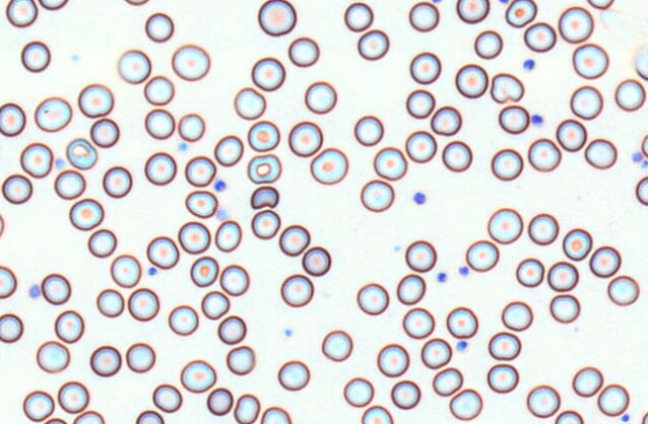PLT: (529, 112, 544, 127), (214, 178, 228, 194), (28, 283, 41, 299), (414, 192, 428, 206), (522, 58, 535, 72), (630, 151, 643, 163), (436, 271, 448, 284), (55, 159, 67, 170), (146, 265, 157, 277), (456, 340, 468, 351), (178, 142, 189, 153), (459, 266, 470, 277), (640, 159, 648, 169)
RBC: (309, 147, 348, 185), (171, 43, 210, 81), (257, 0, 296, 36), (34, 96, 72, 132), (487, 207, 523, 244), (572, 43, 609, 79), (558, 6, 593, 43), (288, 120, 323, 156), (77, 83, 114, 117), (19, 142, 53, 178), (180, 359, 216, 393), (117, 48, 151, 84), (454, 63, 488, 98), (251, 56, 285, 91), (527, 137, 561, 172), (569, 85, 603, 120), (526, 384, 560, 418), (373, 146, 407, 180), (68, 198, 104, 230), (280, 273, 313, 307), (376, 343, 409, 377), (360, 179, 394, 212), (36, 340, 70, 373), (177, 220, 210, 254), (304, 80, 337, 114), (146, 235, 179, 269), (465, 239, 499, 272), (597, 383, 630, 416), (233, 86, 266, 119), (356, 282, 389, 315), (490, 148, 523, 181), (448, 388, 482, 420), (144, 151, 176, 185), (127, 287, 159, 321), (246, 153, 281, 184), (57, 380, 89, 413), (277, 359, 310, 391), (409, 51, 441, 84), (405, 130, 437, 163), (404, 239, 436, 272), (527, 212, 559, 245), (110, 253, 141, 287), (555, 118, 586, 152), (65, 137, 97, 169), (420, 337, 452, 369), (22, 389, 54, 421), (402, 307, 434, 339), (321, 329, 353, 361), (446, 306, 478, 338), (184, 155, 216, 187), (278, 224, 310, 256), (589, 245, 621, 277), (523, 21, 556, 52), (614, 78, 645, 111), (40, 272, 71, 305), (584, 138, 617, 169), (54, 309, 84, 343), (53, 168, 85, 199), (357, 29, 389, 60), (571, 366, 603, 397), (287, 36, 319, 67), (441, 140, 472, 172), (501, 300, 533, 331), (89, 345, 121, 376), (247, 120, 279, 151), (486, 363, 519, 393), (102, 165, 132, 198), (562, 227, 592, 260), (487, 331, 521, 360), (1, 173, 32, 204), (408, 1, 439, 32), (343, 376, 374, 407), (547, 260, 578, 291), (144, 108, 175, 139), (189, 255, 219, 287), (353, 114, 383, 146), (219, 264, 249, 296), (20, 40, 50, 72), (607, 275, 639, 305), (250, 208, 280, 239), (430, 105, 461, 135), (143, 75, 174, 105), (125, 342, 155, 373), (549, 293, 580, 323), (498, 104, 529, 134), (168, 304, 198, 335), (396, 273, 425, 305), (214, 134, 243, 166), (301, 246, 331, 276), (390, 379, 420, 409), (343, 1, 373, 31), (225, 345, 255, 375), (405, 88, 435, 118), (144, 12, 174, 42), (89, 117, 119, 147), (473, 29, 503, 59), (432, 367, 463, 396), (185, 190, 217, 218), (504, 0, 537, 27), (214, 219, 241, 252), (152, 383, 182, 412), (217, 314, 246, 344), (515, 257, 544, 287), (5, 0, 37, 27), (0, 102, 25, 136), (87, 228, 116, 257), (201, 290, 229, 319), (96, 288, 124, 317), (177, 112, 205, 141), (233, 393, 260, 423), (456, 0, 489, 23), (206, 387, 233, 415), (0, 312, 23, 343), (360, 404, 393, 423), (0, 264, 17, 298), (260, 406, 291, 423), (635, 46, 648, 80), (72, 410, 104, 423), (554, 409, 583, 423), (135, 409, 164, 423), (635, 175, 648, 205), (38, 0, 68, 10), (586, 0, 615, 9), (641, 133, 648, 158), (43, 417, 67, 423), (123, 0, 150, 5), (0, 212, 5, 238), (641, 410, 647, 423), (0, 139, 2, 165), (429, 0, 444, 3)
Schistocyte: (490, 74, 523, 105), (249, 186, 278, 210)
